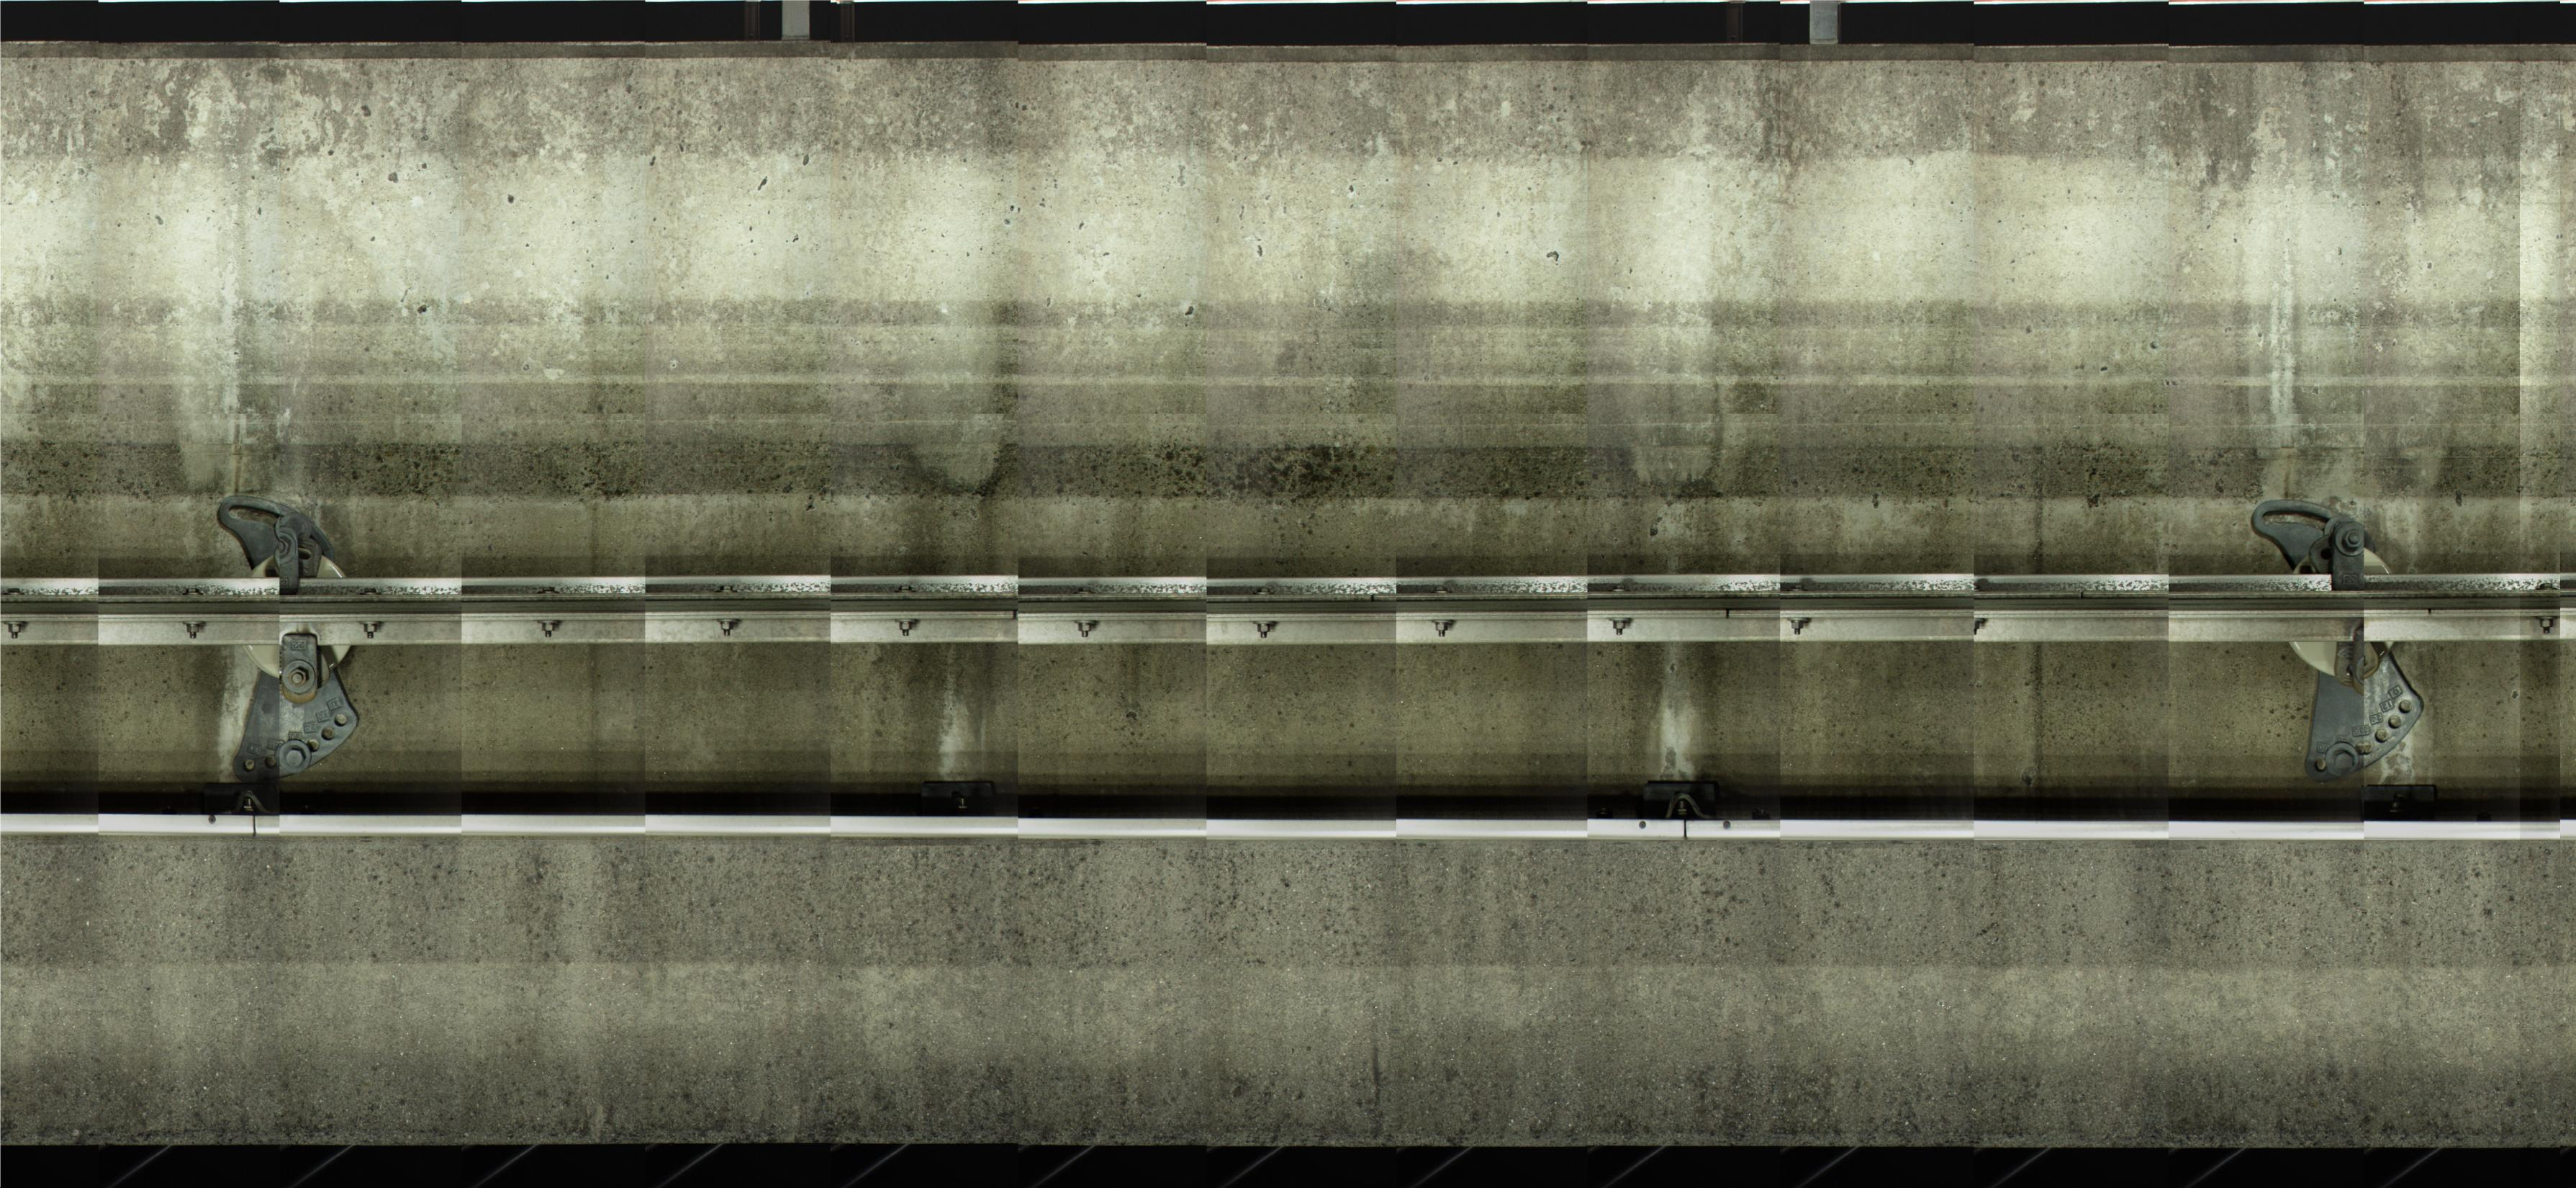concrete: (0, 46, 2563, 577), (7, 639, 2576, 1147)
